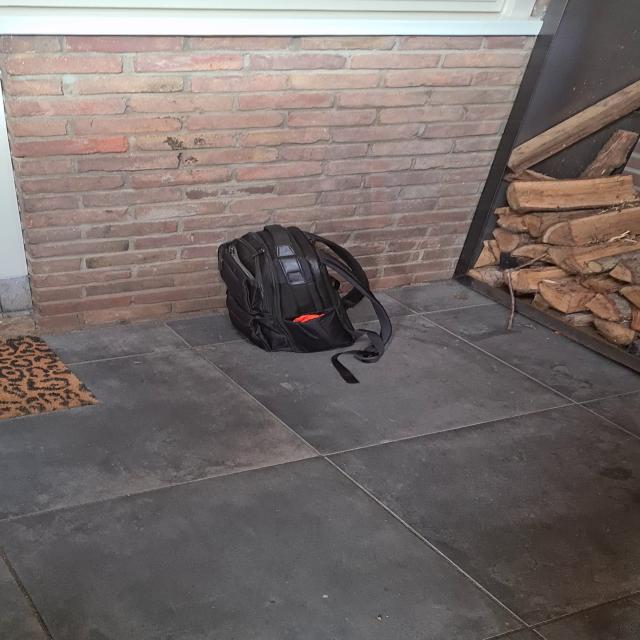backpack: (208, 222, 376, 357)
